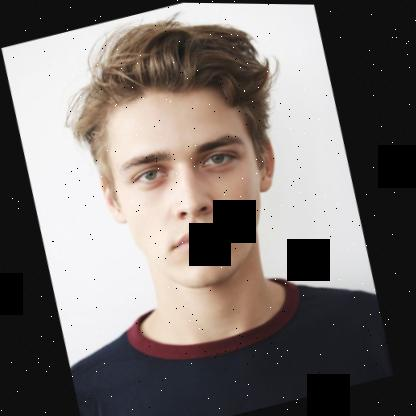Male: (78, 64, 306, 310)
